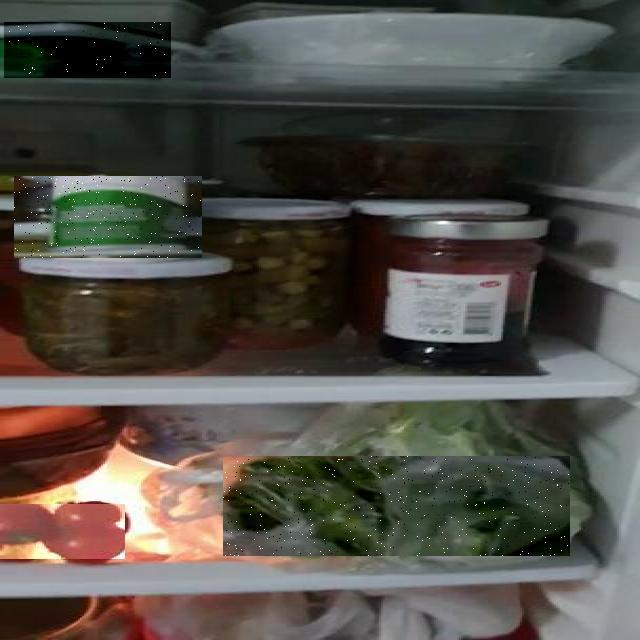Cream: (4, 22, 171, 78)
Lettuce: (223, 457, 570, 557)
Tomato Paste: (0, 504, 125, 559)
Yoghurt: (15, 176, 203, 258)
